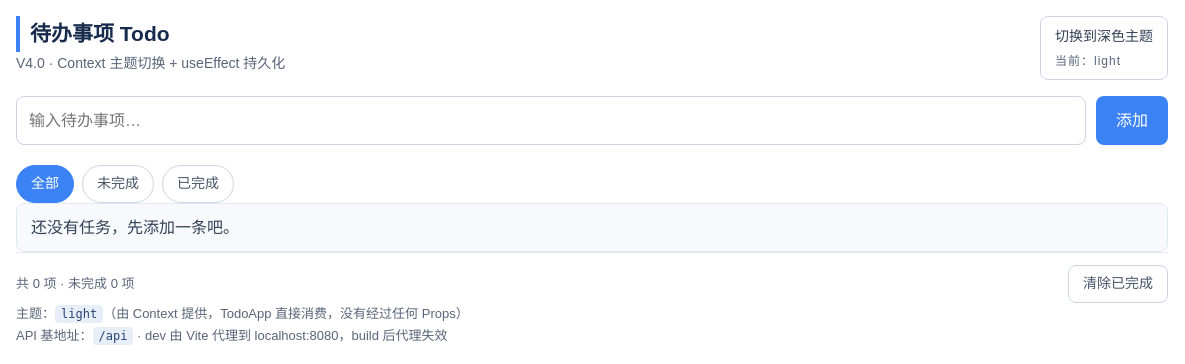
Scenario: 行为8：<b></b> 清洗后为空时同样给出原因，输入保留
This screenshot has width=1185, height=364.
In the field named "待办事项内容": (551, 121) [16,96,1086,145], type "<b></b>"
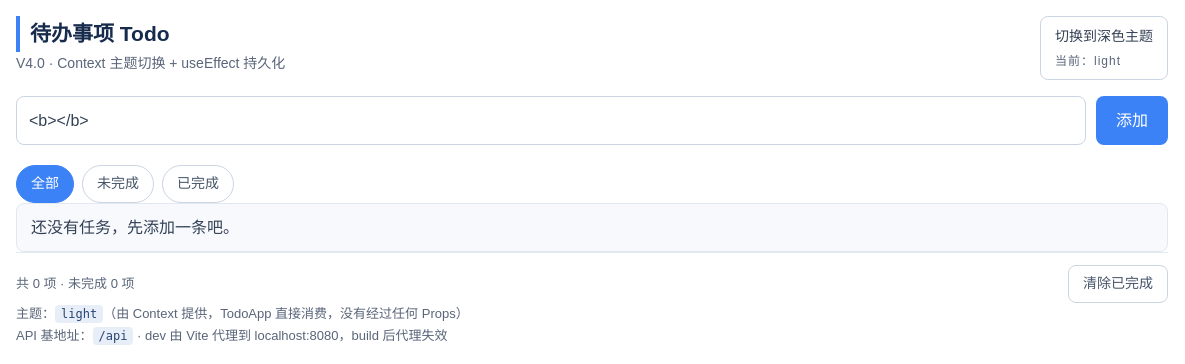
Click the button "添加": (1132, 121) [1096,96,1168,145]
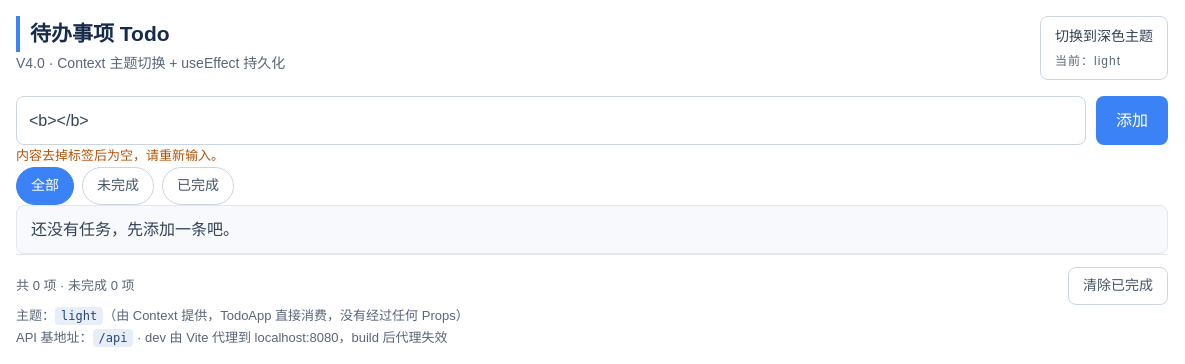
Expected: the number of list items is 1, [16,205,1168,254]
Now the text "内容去掉标签后为空，请重新输入。" is shown, box [16,148,224,163]
